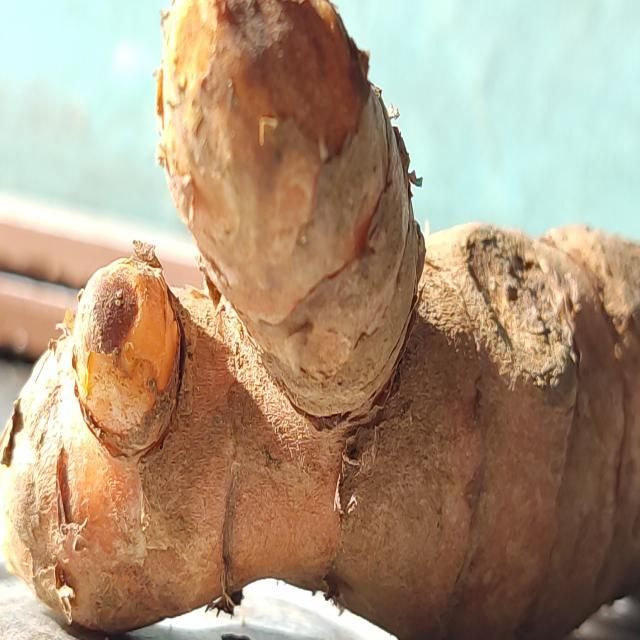ginger: (17, 0, 640, 555)
